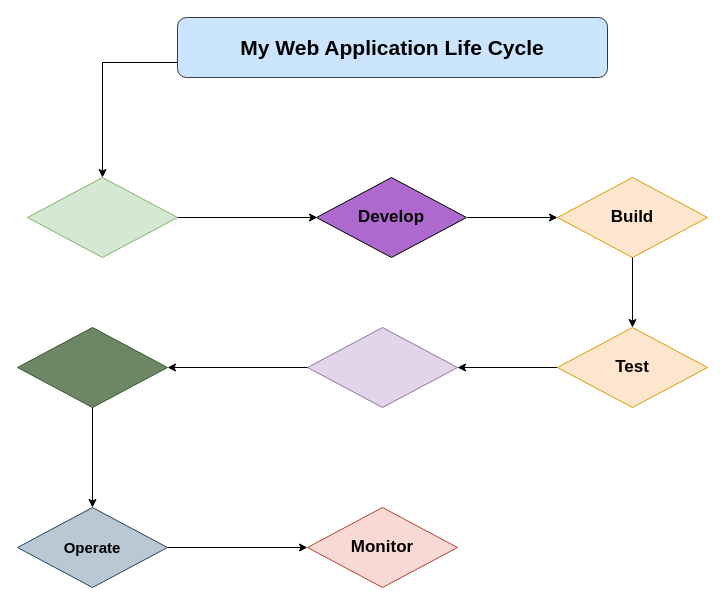
Some shapes in this 725 by 605 pixel diagram are drawn without their labels. The centre of each missing label's shape, as x and y in pixels:
Deploy: pixel 92 367
Plan: pixel 102 217
Release: pixel 382 367
